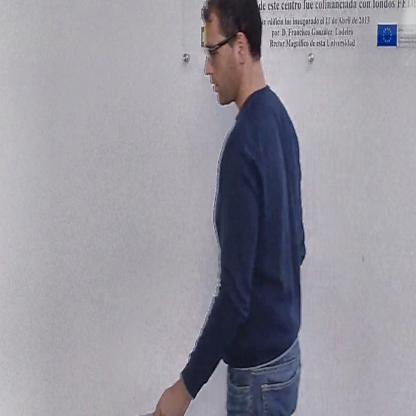knife: (115, 397, 182, 415)
